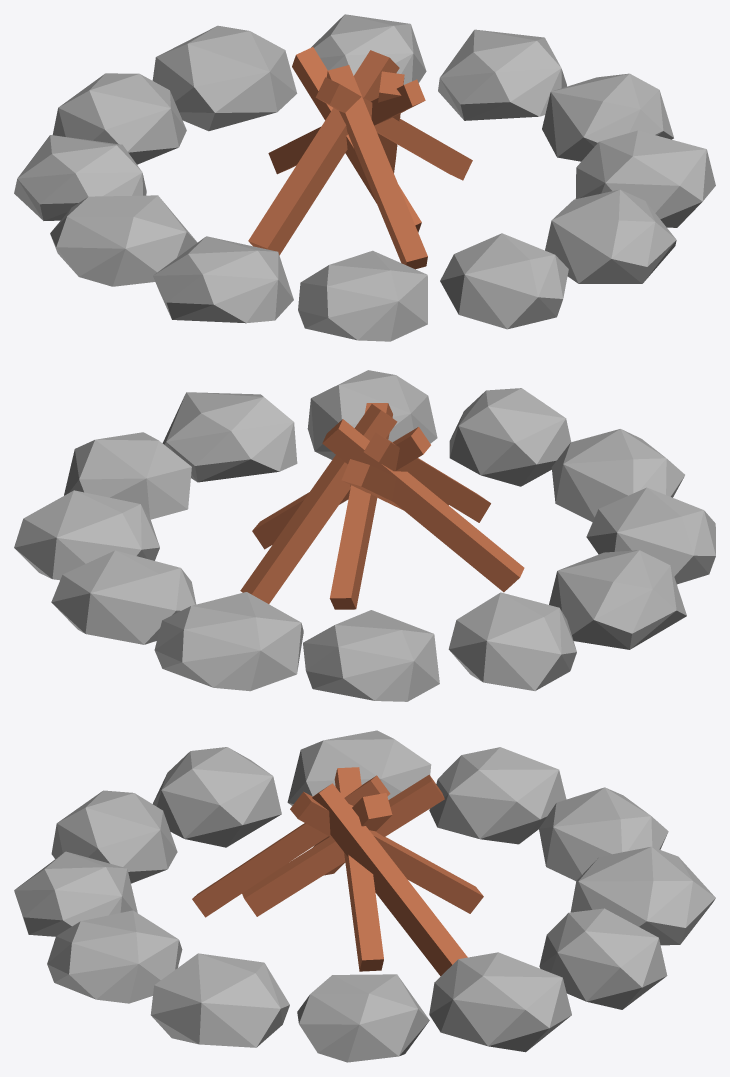
The model's file is cedar-campfire.glb.
3 views of the same model, one above another, from view 1: azimuth 30°, elevation 25°; view 2: azimuth 150°, elevation 25°; view 3: azimuth 270°, elevation 25° (orthographic).
Parts seen in each view (by area): view 1: Icosphere.003, Icosphere.006, Icosphere.008, Icosphere.007, Icosphere.010, Icosphere.009, Icosphere.001, Icosphere.011, Icosphere.004, Icosphere, Icosphere.005, Cube.006 (+6 smaller); view 2: Icosphere.003, Icosphere.006, Icosphere.004, Icosphere.011, Icosphere.002, Icosphere.005, Icosphere.009, Icosphere.001, Icosphere.007, Icosphere.008, Icosphere, Cube.006 (+6 smaller); view 3: Icosphere.001, Icosphere.011, Icosphere.005, Icosphere.007, Icosphere.010, Icosphere.002, Icosphere, Icosphere.003, Icosphere.008, Icosphere.004, Icosphere.009, Cube.004 (+6 smaller).
Boxes of the visible parts, x1,y1,x2,y2 form: Icosphere.003: (152,25,297,131); Icosphere.006: (50,195,197,286); Icosphere.008: (298,250,427,341); Icosphere.007: (153,236,293,323); Icosphere.010: (545,189,676,283); Icosphere.009: (440,233,568,329); Icosphere.001: (438,29,566,120); Icosphere.011: (575,130,715,227); Icosphere.004: (52,73,186,164); Icosphere: (542,73,673,161); Icosphere.005: (14,135,146,220); Cube.006: (248,50,399,255); Icosphere.003: (154,592,303,691); Icosphere.006: (549,550,686,649); Icosphere.004: (303,610,439,701); Icosphere.011: (162,392,297,482); Icosphere.002: (51,550,196,644); Icosphere.005: (448,592,576,690); Icosphere.009: (449,388,571,486); Icosphere.001: (14,490,159,580); Icosphere.007: (586,487,715,584); Icosphere.008: (551,429,684,521); Icosphere: (64,432,191,519); Cube.006: (322,419,524,592); Icosphere.001: (429,952,571,1052); Icosphere.011: (150,953,289,1047); Icosphere.005: (429,747,566,844); Icosphere.007: (153,747,281,847); Icosphere.010: (47,910,182,1003); Icosphere.002: (539,908,667,1009); Icosphere: (297,974,429,1062); Icosphere.003: (570,846,715,945); Icosphere.008: (51,790,177,883); Icosphere.004: (539,787,668,880); Icosphere.009: (14,851,137,936); Cube.004: (312,783,467,976).
Bounding box in the file's own units: 5.01 × 1.31 × 5.04.
